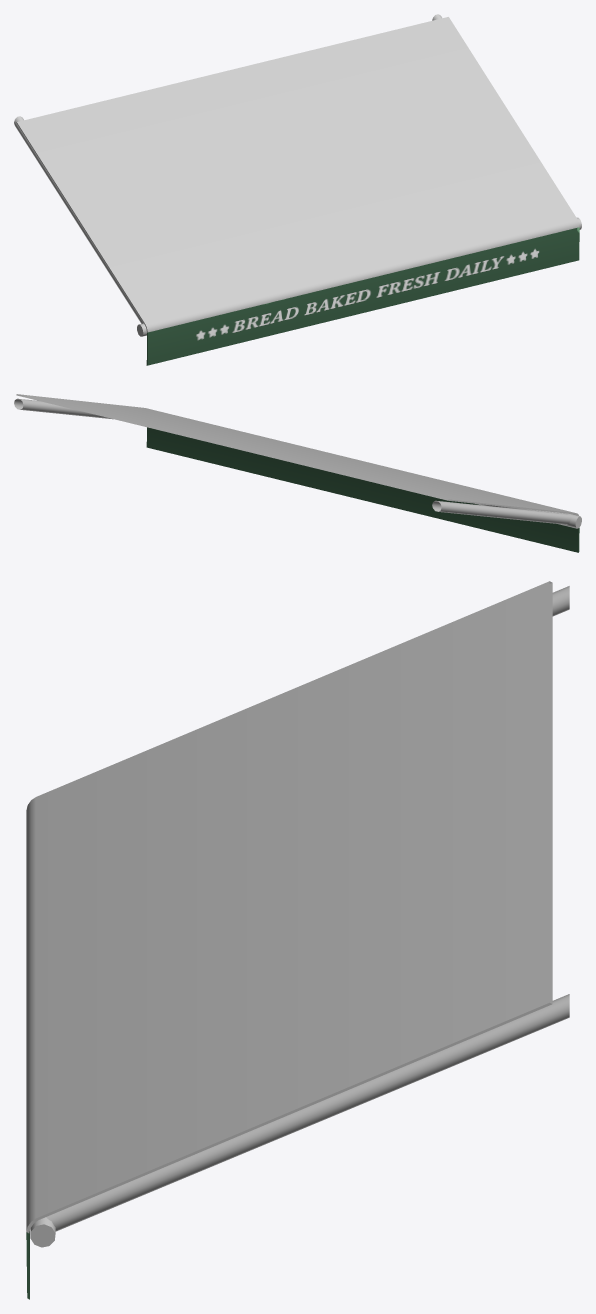
The model's file is Prop_Awning_Bakery.gltf.
3 views of the same model, one above another, from view 1: azimuth 30°, elevation 25°; view 2: azimuth 150°, elevation 25°; view 3: azimuth 270°, elevation 25° (orthographic). The views are drawn at different scales.
Parts seen in each view (by area): view 1: Prop_Awning_Bakery; view 2: Prop_Awning_Bakery; view 3: Prop_Awning_Bakery.
Part boxes in pixels (x1=…): Prop_Awning_Bakery: x1=14, y1=14, x2=581, y2=365; Prop_Awning_Bakery: x1=14, y1=394, x2=581, y2=552; Prop_Awning_Bakery: x1=26, y1=581, x2=569, y2=1299.
Size of what is drawn, in the model's own units: 2.85 by 0.9245 by 1.53.
